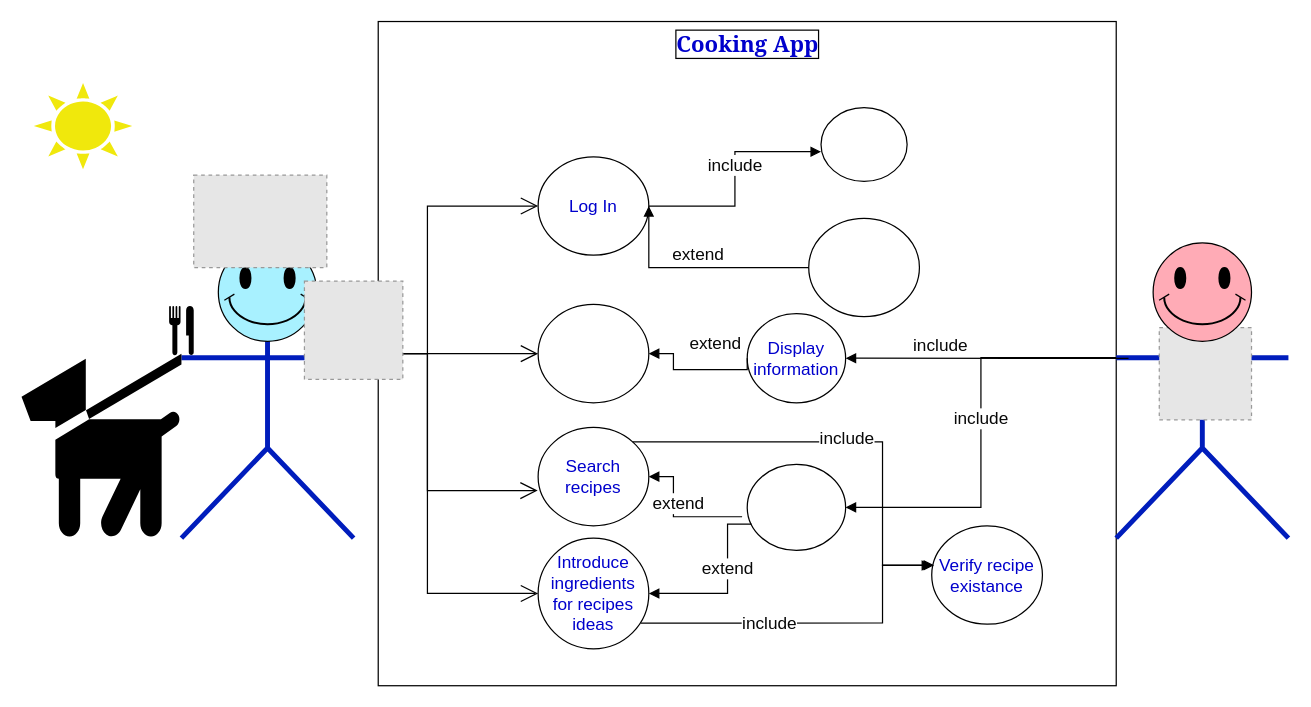
Image size: 1311x707. Some labels were removed from this diagram. Grey dashed boxes stand in for pictures. The centre of each missing label's shape, as x and y in pixels:
Display Login Error: point (863, 267)
Display recipe: point (796, 506)
User profile: point (593, 353)
Verify password: point (863, 143)
